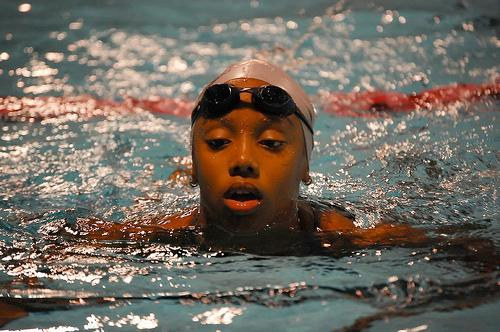swimmer: (47, 55, 500, 270)
